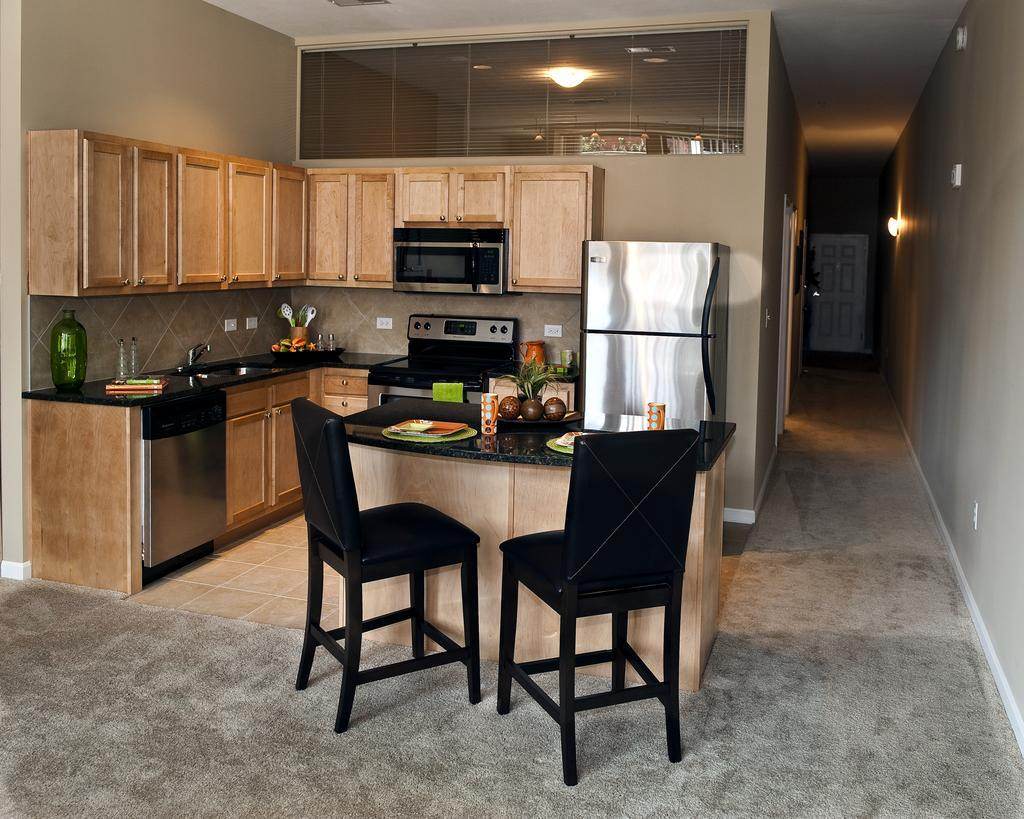door: (812, 237, 856, 344)
